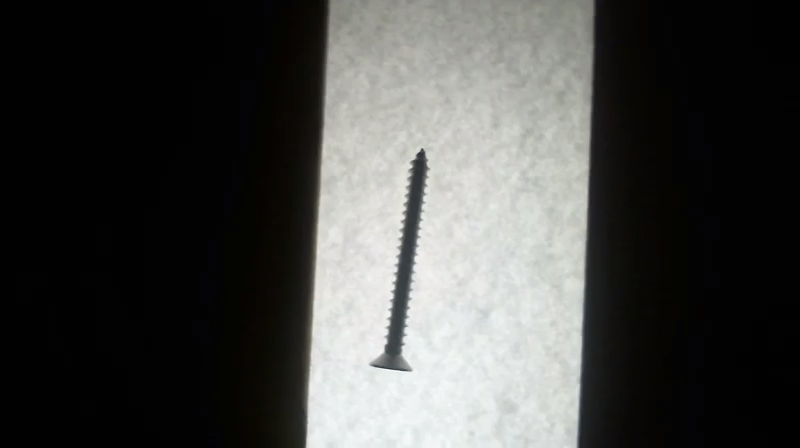S002: (366, 144, 431, 375)
